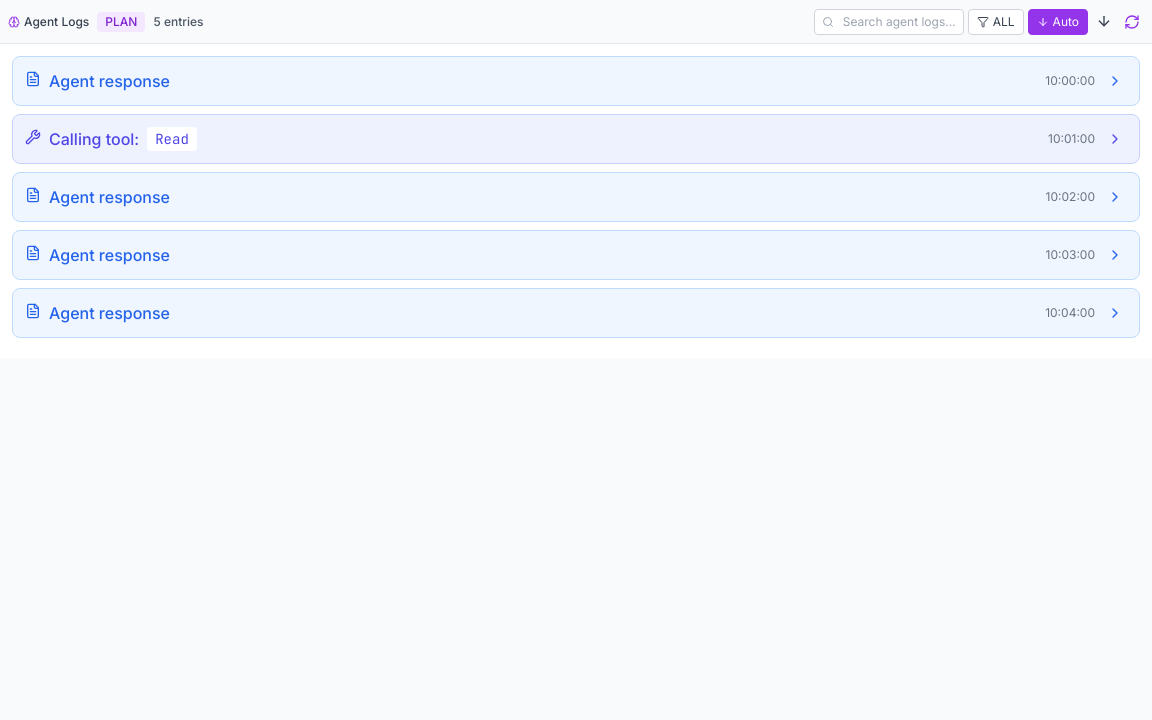
Test: AgentLogsPanel Component › Event Type Filter Menu › should close filter menu when clicking outside
Click the button titled "Filter by event type": coordinates (996, 22) 968,8 -> 1024,34
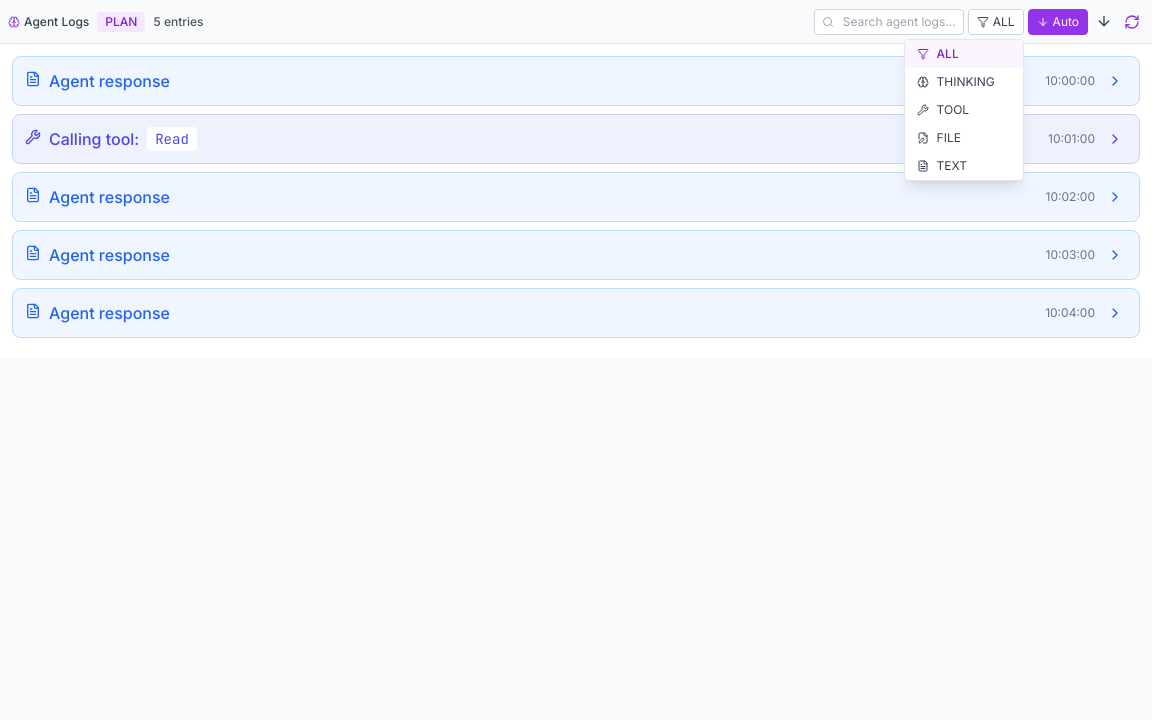
Now the button "THINKING" is shown, box 905,68 -> 1023,96
Click the element with class "z-10": coordinates (576, 360) 0,0 -> 1151,719
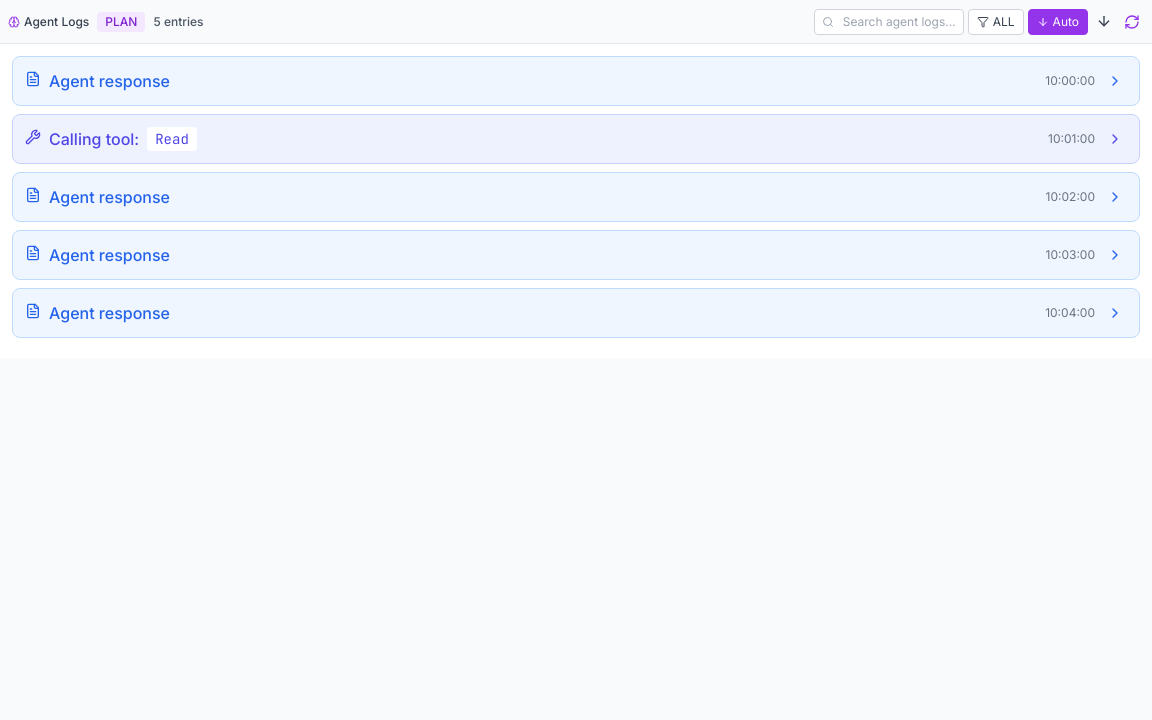
Now the element with class "top-full" is gone
